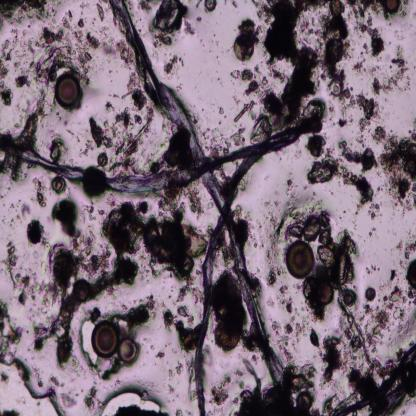Air bubble: (0, 358, 62, 416), (96, 389, 164, 416), (78, 316, 104, 366)
Background material: (104, 197, 206, 278), (264, 1, 322, 134), (319, 342, 416, 414), (209, 269, 253, 355), (307, 156, 375, 208), (31, 240, 87, 301), (109, 89, 152, 156), (48, 10, 92, 74), (379, 131, 416, 204), (360, 288, 402, 351), (14, 86, 56, 147), (30, 304, 76, 352), (322, 2, 350, 79), (150, 1, 190, 50), (350, 1, 385, 57), (86, 254, 140, 288), (2, 240, 30, 304), (287, 208, 335, 244), (336, 289, 366, 346), (267, 213, 288, 288), (372, 54, 412, 93), (0, 302, 23, 368), (1, 30, 39, 66), (339, 140, 380, 173), (200, 124, 248, 152), (0, 0, 53, 25), (52, 198, 83, 240), (321, 330, 345, 383), (232, 19, 262, 61), (162, 128, 193, 168), (272, 319, 296, 367), (300, 282, 328, 322), (354, 90, 380, 133), (125, 291, 156, 327), (158, 356, 192, 388), (66, 124, 97, 158), (315, 242, 341, 278), (88, 117, 114, 148), (287, 366, 317, 391), (175, 321, 201, 349), (231, 70, 260, 94), (56, 329, 74, 365), (0, 60, 14, 106), (114, 404, 170, 415), (79, 198, 103, 222), (0, 157, 23, 182), (276, 285, 294, 316), (338, 230, 358, 256), (38, 26, 63, 46), (251, 118, 271, 143), (32, 178, 48, 209), (26, 220, 46, 244), (50, 132, 66, 162), (188, 185, 203, 216), (160, 57, 181, 78), (160, 308, 178, 332), (235, 100, 255, 121), (101, 28, 116, 56), (211, 382, 230, 404), (117, 43, 135, 66), (85, 384, 100, 411), (177, 289, 190, 319), (308, 135, 326, 156), (294, 315, 308, 339), (87, 30, 101, 52), (397, 241, 416, 257), (368, 201, 382, 222), (14, 72, 32, 88), (371, 125, 389, 141), (60, 392, 76, 410), (46, 375, 65, 389), (310, 326, 320, 350), (286, 172, 296, 196), (396, 24, 407, 44), (19, 202, 31, 219), (365, 261, 382, 273), (0, 405, 20, 415), (0, 370, 10, 385), (8, 213, 17, 229), (389, 268, 398, 282), (156, 349, 166, 360), (78, 18, 85, 30), (174, 408, 184, 416), (219, 106, 224, 115), (231, 0, 237, 6)
Cotton: (112, 1, 285, 384), (0, 124, 319, 193), (194, 155, 262, 414)
Diatom: (285, 241, 315, 279), (92, 320, 119, 357), (55, 74, 84, 108), (338, 250, 354, 286), (316, 279, 336, 306), (118, 338, 139, 362), (74, 278, 92, 300), (295, 391, 313, 411), (406, 258, 416, 291), (51, 175, 67, 195), (327, 79, 344, 97), (384, 0, 401, 16), (97, 152, 109, 168), (96, 1, 105, 22), (365, 286, 376, 302), (203, 0, 216, 12)
